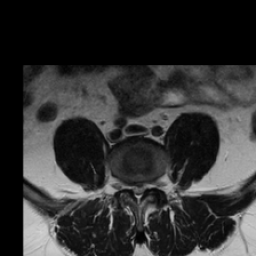CCS_normal: (135, 178, 140, 209)
LFS_normal: (148, 174, 155, 194)
LLS_normal: (140, 179, 147, 197)
RFS_stenosis: (124, 177, 130, 195)
RLS_stenosis: (130, 178, 135, 196)
